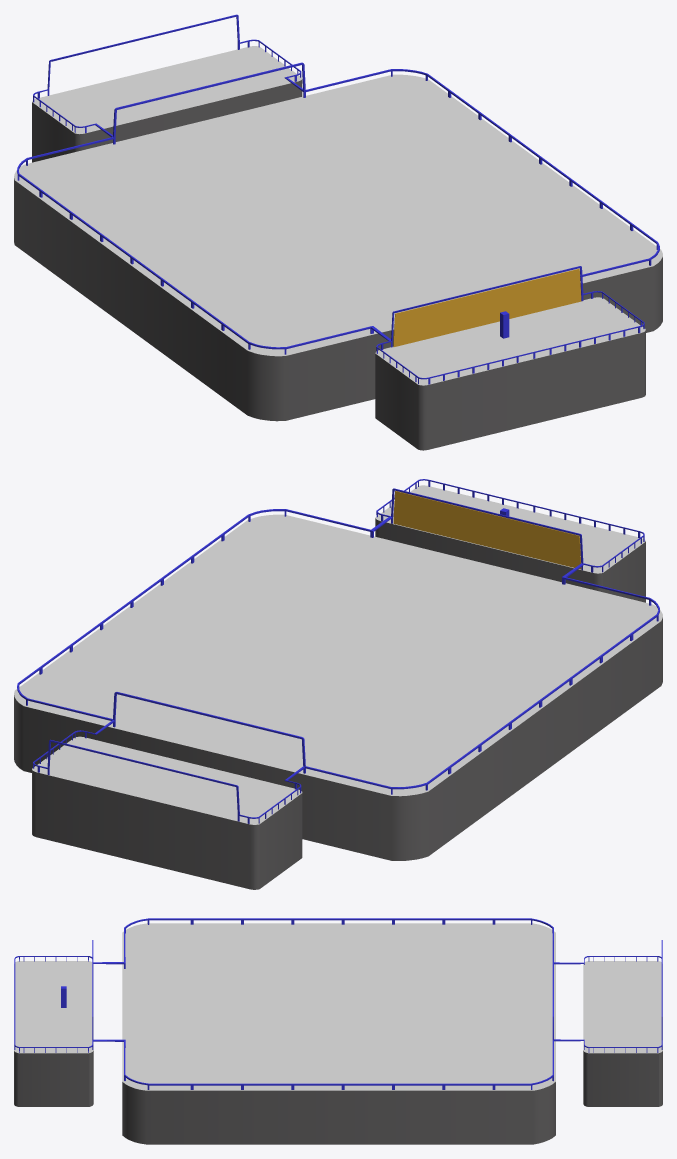
The model's file is Platform.fbx.
3 renders of one model, top to bottom at view 1: azimuth 30°, elevation 25°; view 2: azimuth 150°, elevation 25°; view 3: azimuth 270°, elevation 25°, orthographic. The views are drawn at different scales.
Visible parts, largest first — view 1: Arena_platform, Start_platform, Gate, Fence_arena_platform, Fence_start_platform; view 2: Arena_platform, Start_platform, Gate, Fence_arena_platform, Fence_start_platform; view 3: Arena_platform, Start_platform, Fence_arena_platform, Fence_start_platform.
Boxes of the visible parts, x1,y1,x2,y2 form: Arena_platform: (14,46,662,421); Start_platform: (375,297,645,450); Gate: (393,268,581,346); Fence_arena_platform: (17,14,659,354); Fence_start_platform: (376,266,644,384); Arena_platform: (14,514,662,889); Start_platform: (375,485,645,602); Gate: (393,491,581,569); Fence_arena_platform: (17,509,659,823); Fence_start_platform: (376,479,644,572); Arena_platform: (122,923,662,1144); Start_platform: (14,961,93,1106); Fence_arena_platform: (93,918,662,1089); Fence_start_platform: (14,940,93,1052).
Bounding box in the file's own units: 14165 × 3281 × 23212.
